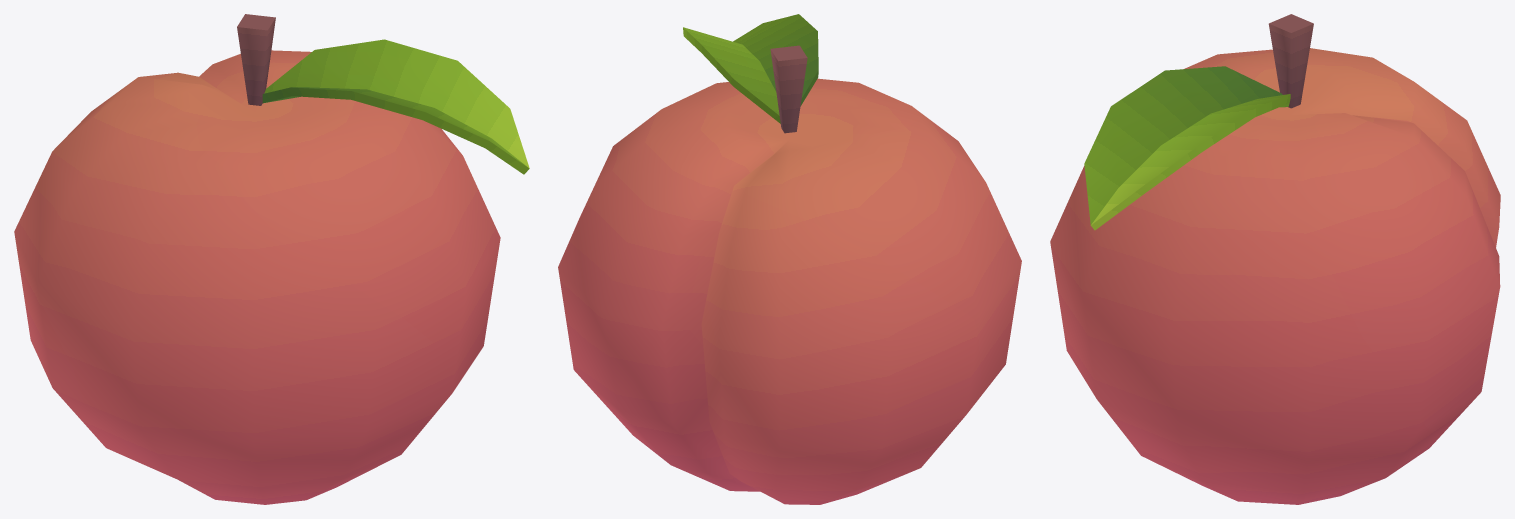
Rendered from peach.glb.
3 renders of one model, left to right at view 1: azimuth 30°, elevation 25°; view 2: azimuth 150°, elevation 25°; view 3: azimuth 270°, elevation 25°, orthographic. The views are drawn at different scales.
Parts seen in each view (by area): view 1: mesh_peach_01 - Default.001_0; view 2: mesh_peach_01 - Default.001_0; view 3: mesh_peach_01 - Default.001_0.
Boxes of the visible parts, <box> form: mesh_peach_01 - Default.001_0: <box>14,14,529,504</box>; mesh_peach_01 - Default.001_0: <box>558,14,1021,504</box>; mesh_peach_01 - Default.001_0: <box>1050,14,1500,504</box>.
Bounding box in the file's own units: 125 × 131 × 115.
Materials: 1 (1 with a texture image).
